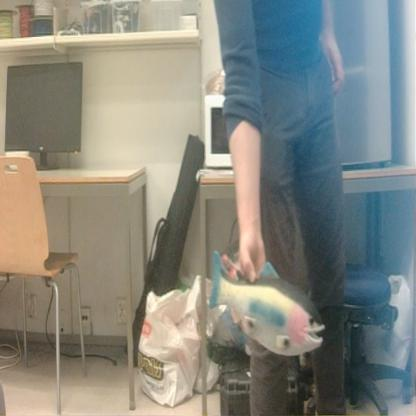rubberfish: (204, 243, 328, 364)
